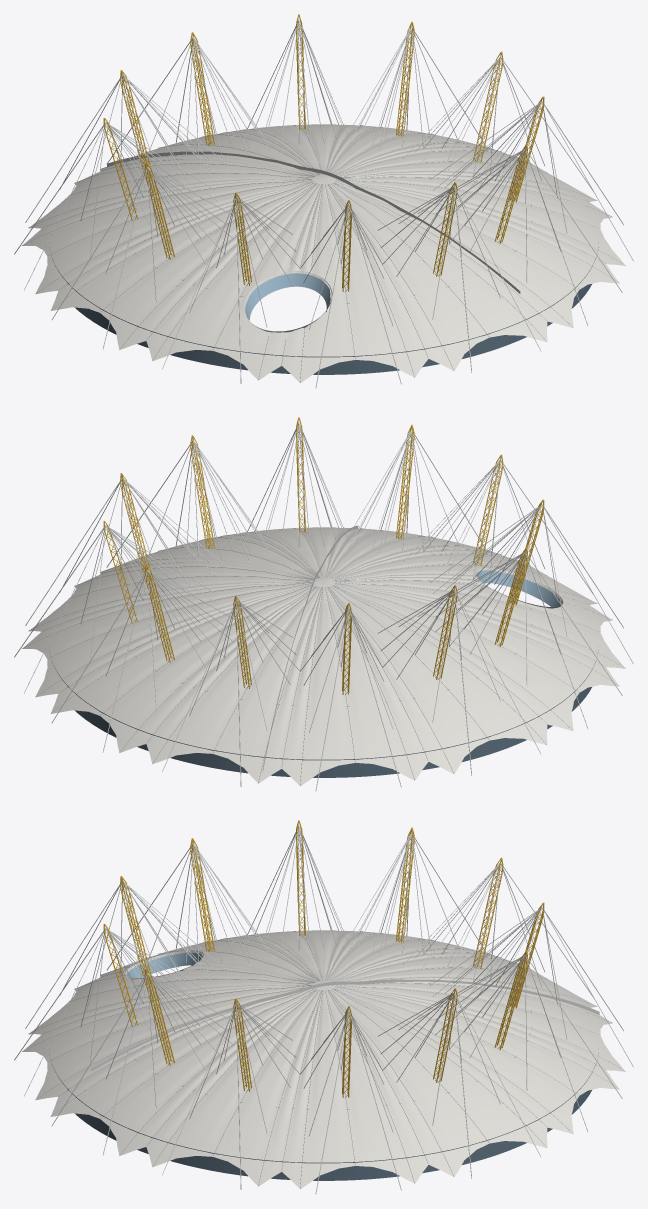
The model's file is london-the-o2.detail.glb.
3 views of the same model, one above another, from view 1: azimuth 30°, elevation 25°; view 2: azimuth 150°, elevation 25°; view 3: azimuth 270°, elevation 25° (orthographic).
Visible parts, largest first — view 1: The O2; view 2: The O2; view 3: The O2.
Part boxes in pixels (bbox=[...]): The O2: bbox=[14, 14, 633, 388]; The O2: bbox=[14, 417, 633, 791]; The O2: bbox=[14, 820, 633, 1194].
Bounding box in the file's own units: 356 × 96.19 × 356.
